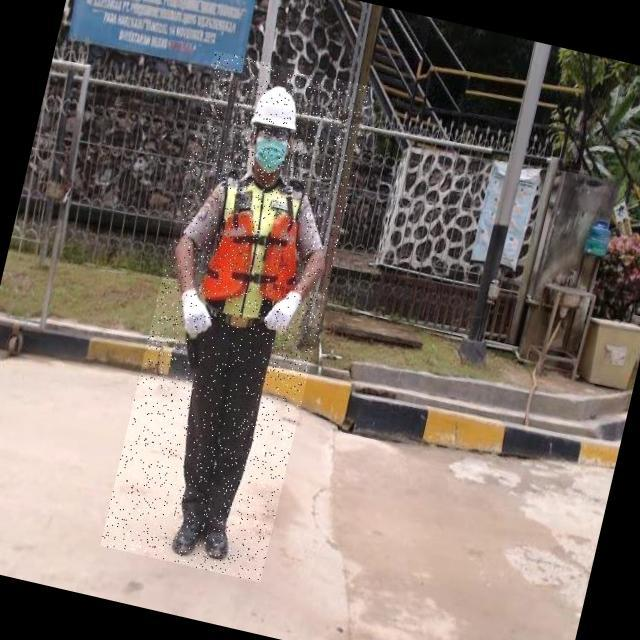Gloves: (256, 285, 313, 342), (173, 285, 222, 342)
Helmet: (248, 79, 305, 136)
Person: (148, 69, 347, 578)
Safety Boot: (168, 511, 205, 560), (197, 524, 233, 566)
Safety Vest: (195, 167, 317, 339)
